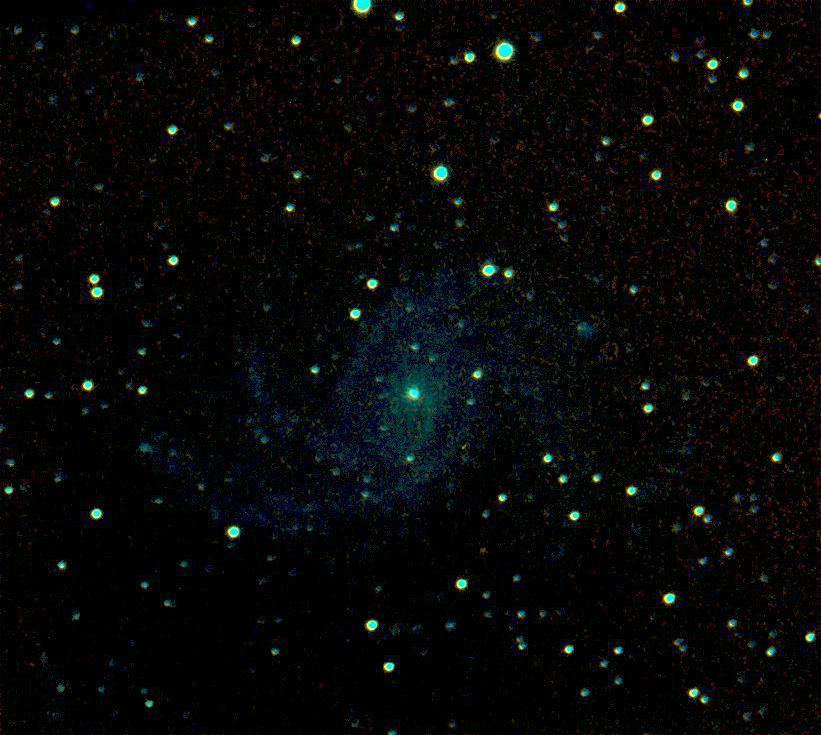star: (467, 535, 497, 565)
